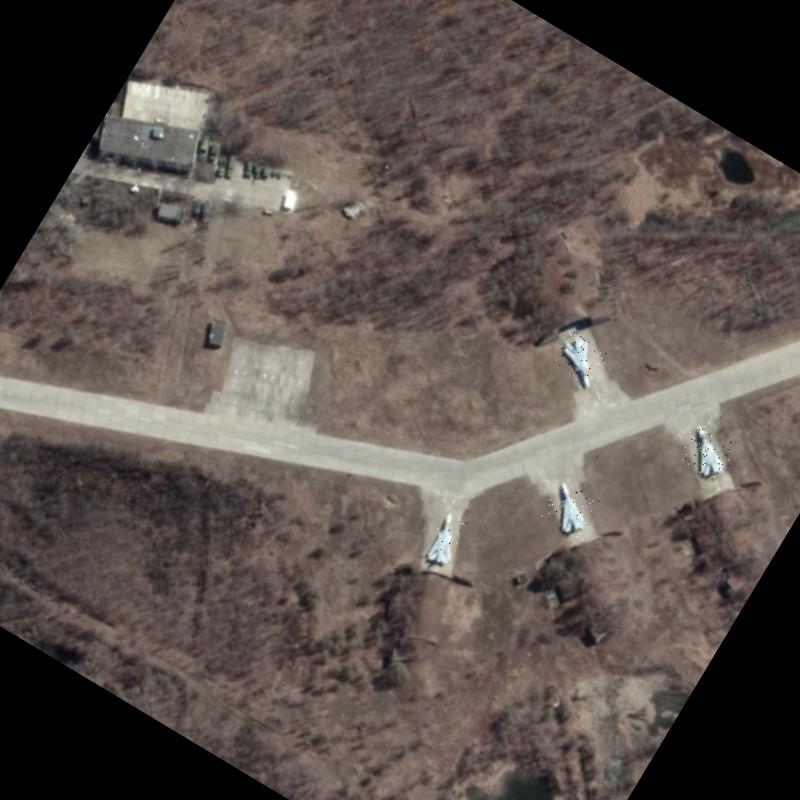A20: (548, 328, 610, 390), (538, 478, 599, 540), (676, 422, 738, 482), (419, 508, 472, 570)
